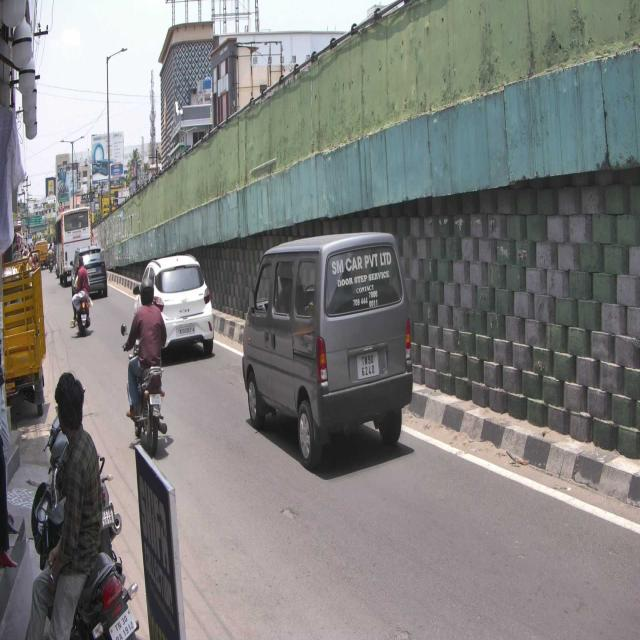single_rider: (120, 278, 168, 456)
